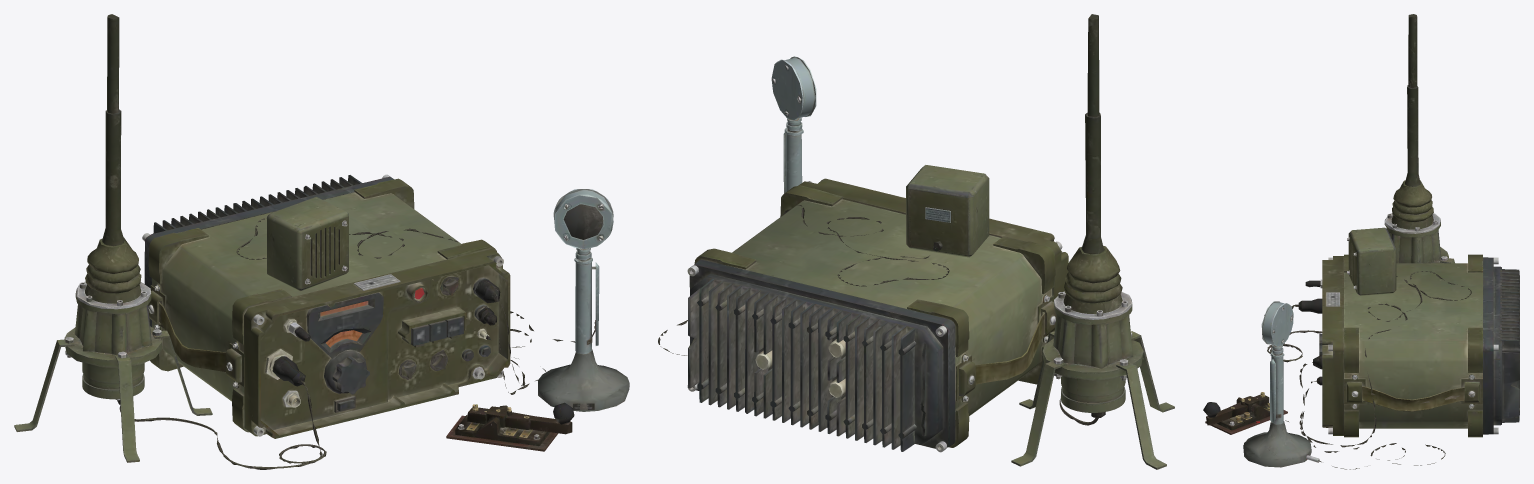
The model's file is field_radio.glb.
3 renders of one model, left to right at view 1: azimuth 30°, elevation 25°; view 2: azimuth 150°, elevation 25°; view 3: azimuth 270°, elevation 25°, orthographic. The views are drawn at different scales.
Visible parts, largest first — view 1: vintage_radio_transceiver, vintage_radio_transceiver_cable; view 2: vintage_radio_transceiver, vintage_radio_transceiver_cable; view 3: vintage_radio_transceiver, vintage_radio_transceiver_cable.
Part boxes in pixels (bbox=[...]): vintage_radio_transceiver: bbox=[142, 174, 510, 438]; vintage_radio_transceiver_cable: bbox=[14, 14, 629, 469]; vintage_radio_transceiver: bbox=[687, 178, 1068, 452]; vintage_radio_transceiver_cable: bbox=[658, 14, 1174, 469]; vintage_radio_transceiver: bbox=[1319, 254, 1519, 437]; vintage_radio_transceiver_cable: bbox=[1203, 14, 1471, 469].
Size of the model in its own units: 0.574 by 0.4344 by 0.4131.
2 materials, 2 textured.
